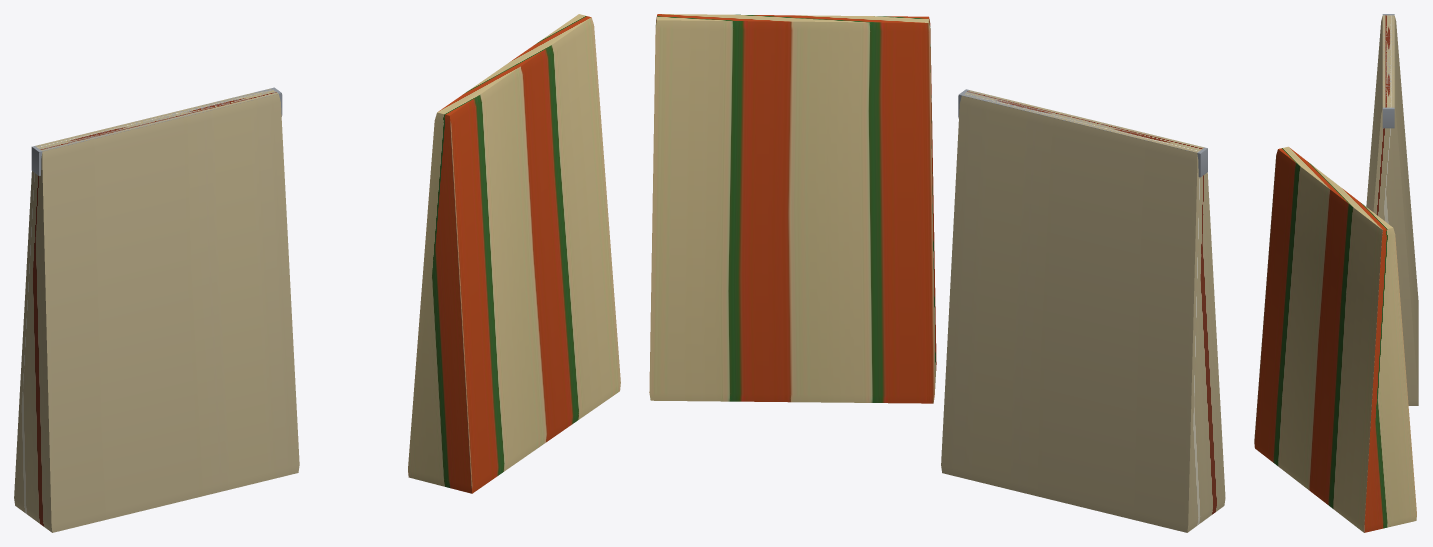
The model's file is ration_pouch_beef_stew.glb.
3 renders of one model, left to right at view 1: azimuth 30°, elevation 25°; view 2: azimuth 150°, elevation 25°; view 3: azimuth 270°, elevation 25°, orthographic. The views are drawn at different scales.
Parts seen in each view (by area): view 1: ration_pouch_beef_stew; view 2: ration_pouch_beef_stew; view 3: ration_pouch_beef_stew.
Boxes of the visible parts, left/top/right/bottom form: ration_pouch_beef_stew: left=14, top=14, right=620, bottom=532; ration_pouch_beef_stew: left=649, top=14, right=1225, bottom=532; ration_pouch_beef_stew: left=1254, top=14, right=1418, bottom=532.
Size of the model in its own units: 0.3002 by 0.185 by 0.0931.
Materials: 3 (2 with a texture image).
